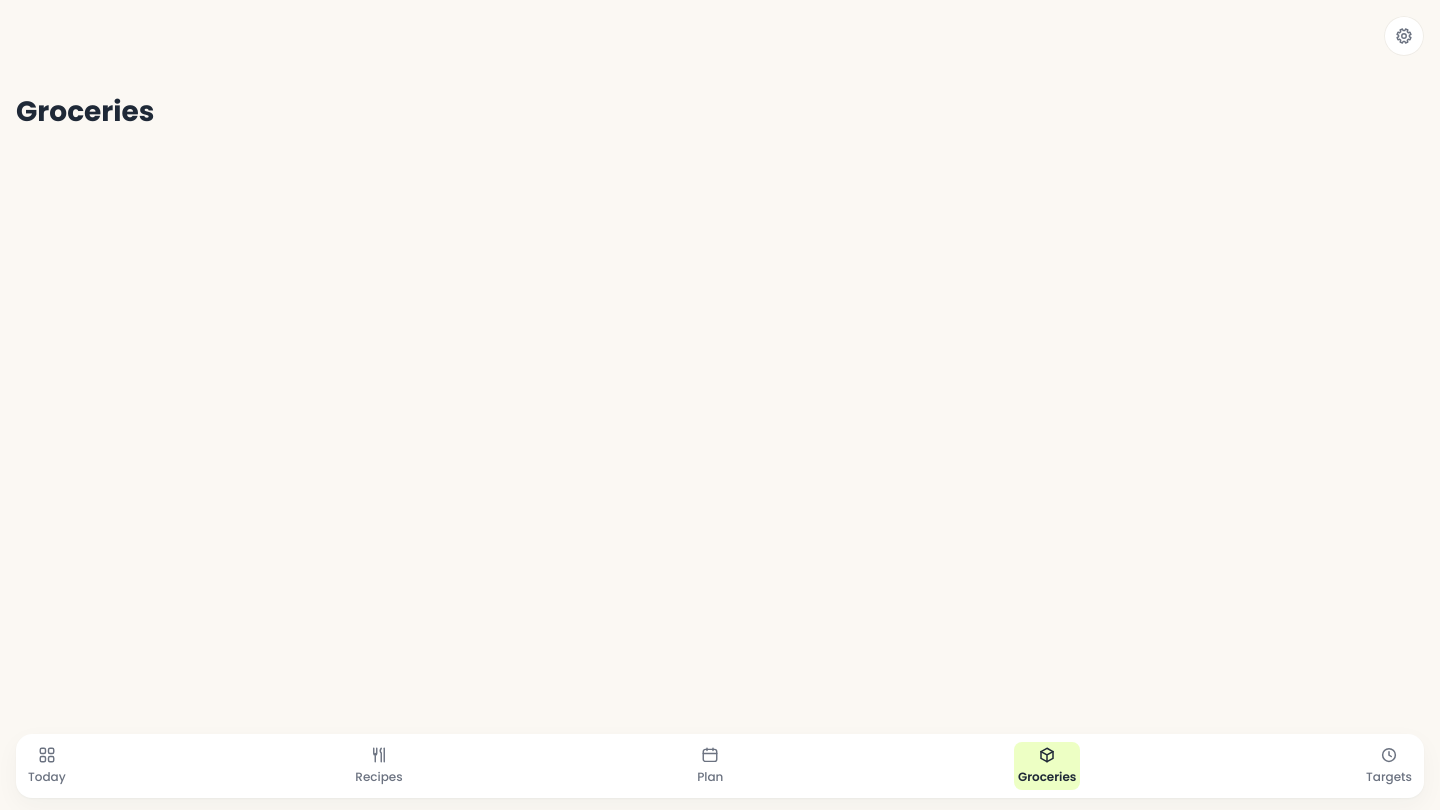
Test: App settings (SPEC-008) › shows a save error and keeps the dialog open with the picked locale
Click the button named "Settings" at (1404, 36), box [1384, 16, 1424, 56]
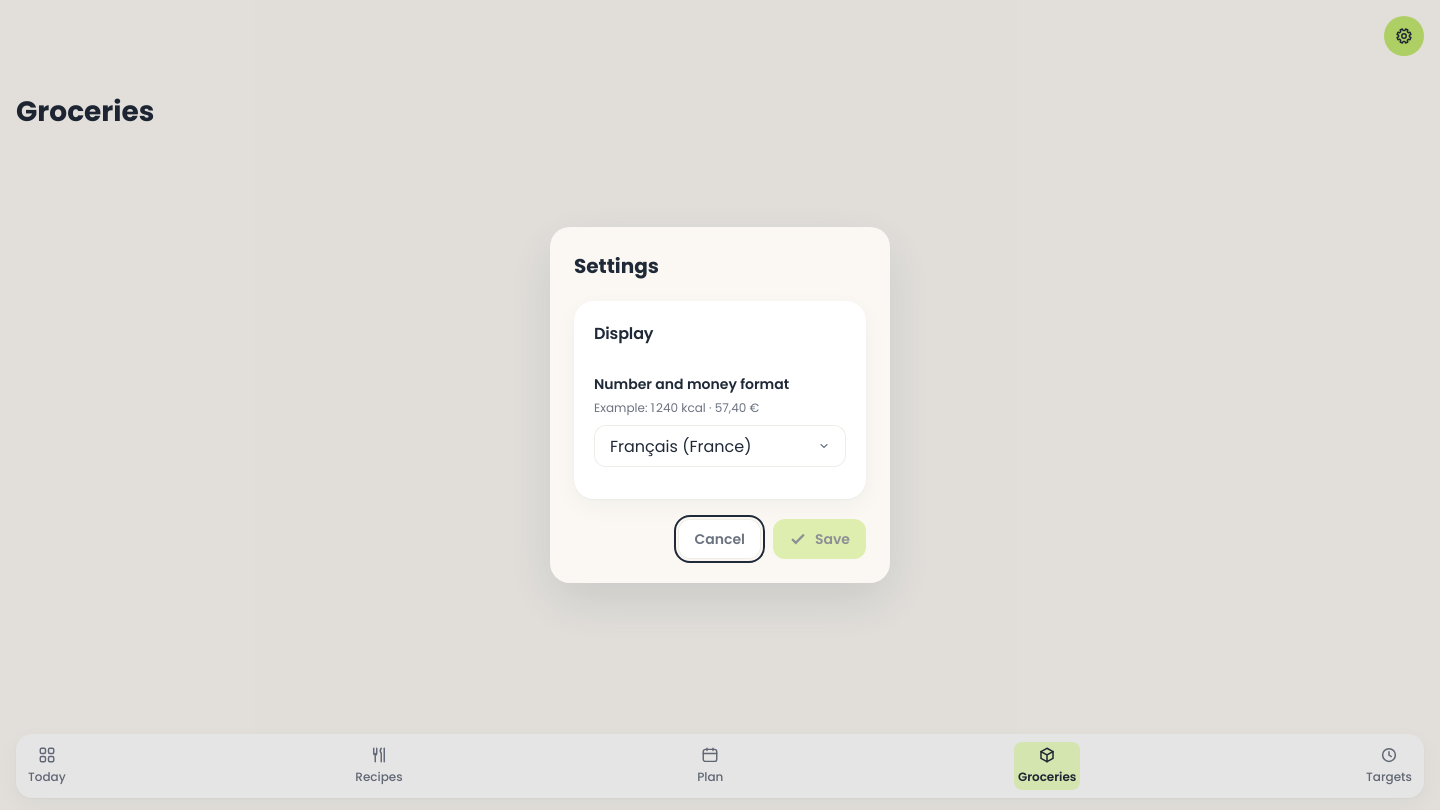
Select "English (Ireland)" in the dropdown labelled "Number and money format" at (720, 446), box [594, 425, 846, 467]
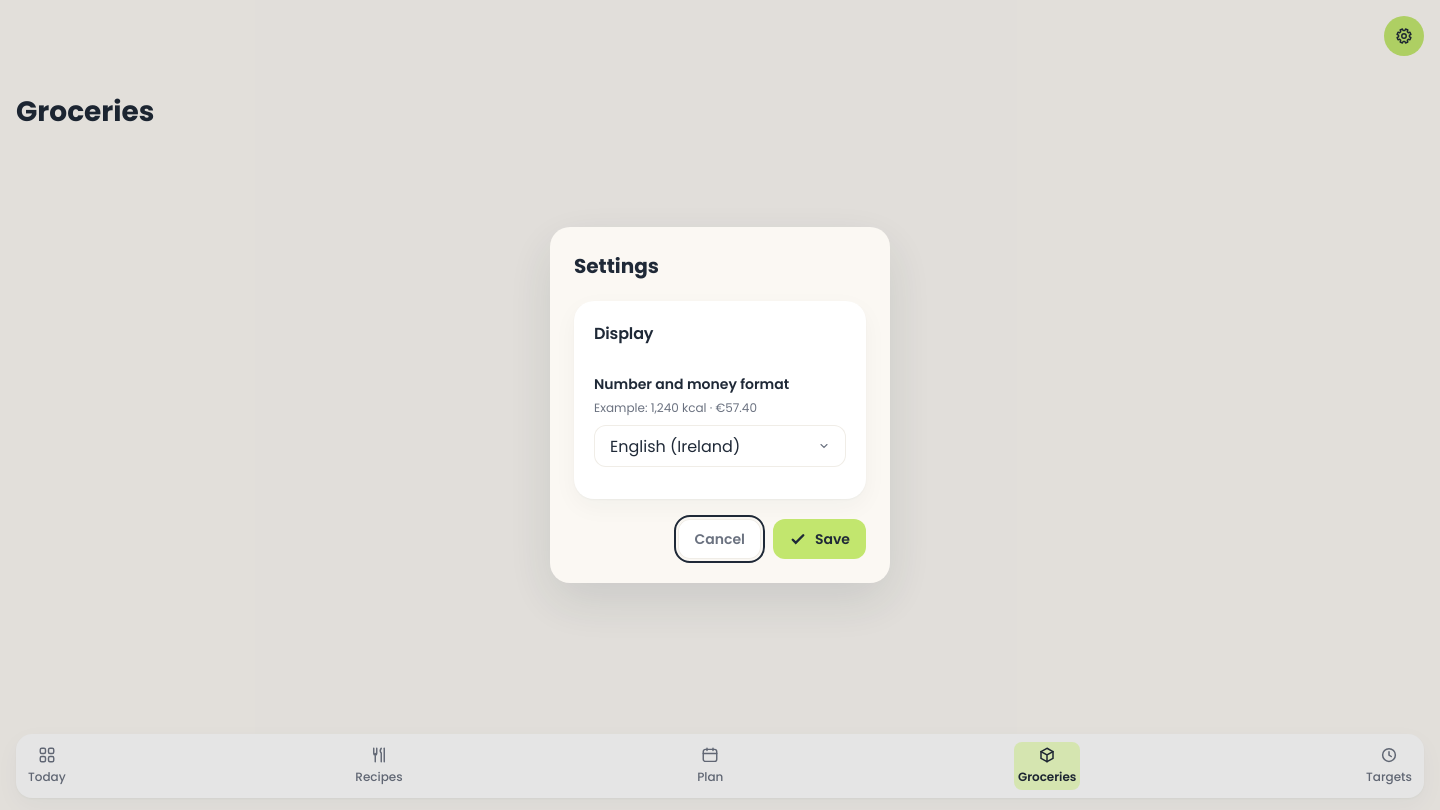
Click the button "Save" at (820, 539), box [773, 519, 866, 559]
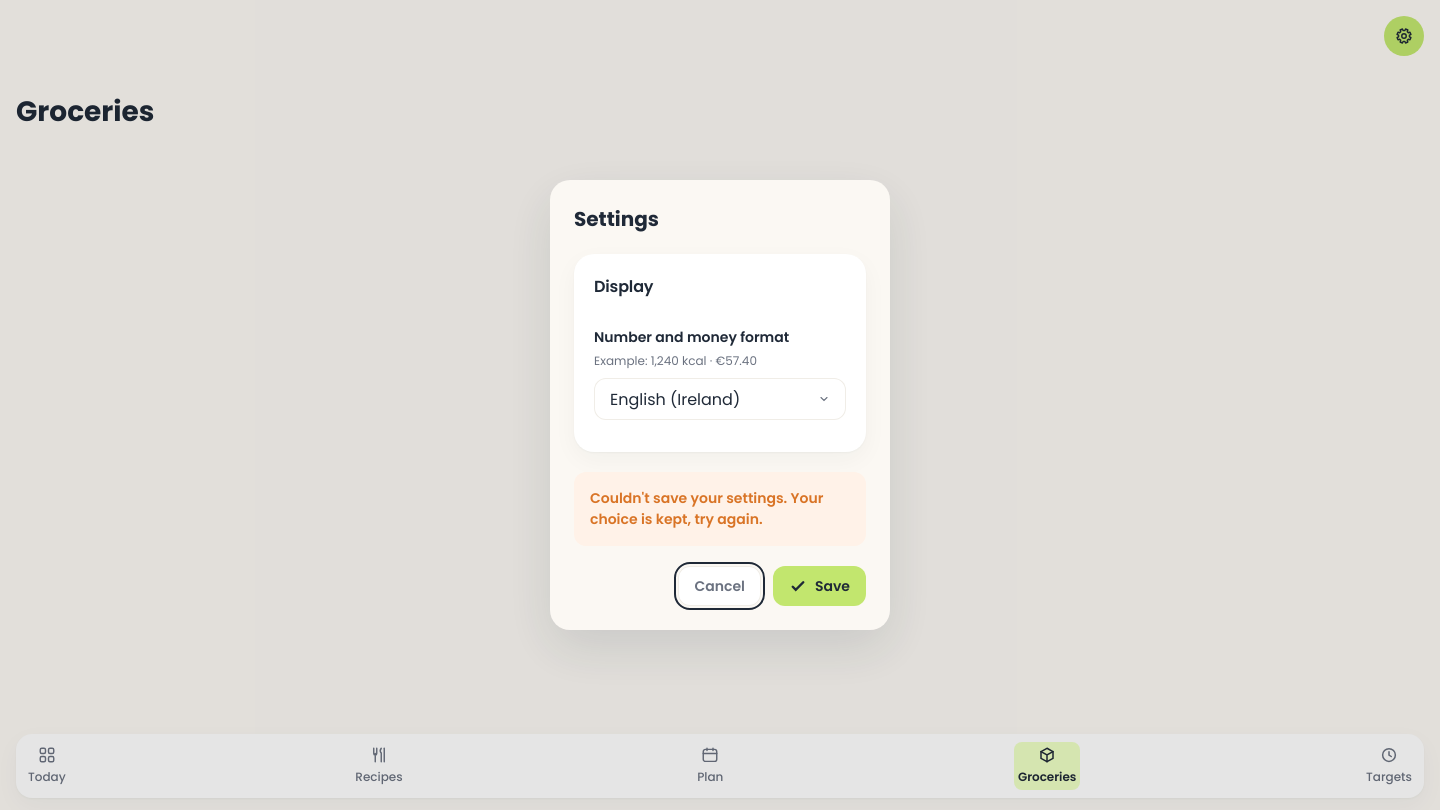
Expected: the dialog "Settings" is shown, [550, 180, 890, 630]
Expected: the message reads "Couldn't save your settings. Your choice is kept, try again.", [590, 488, 823, 529]
